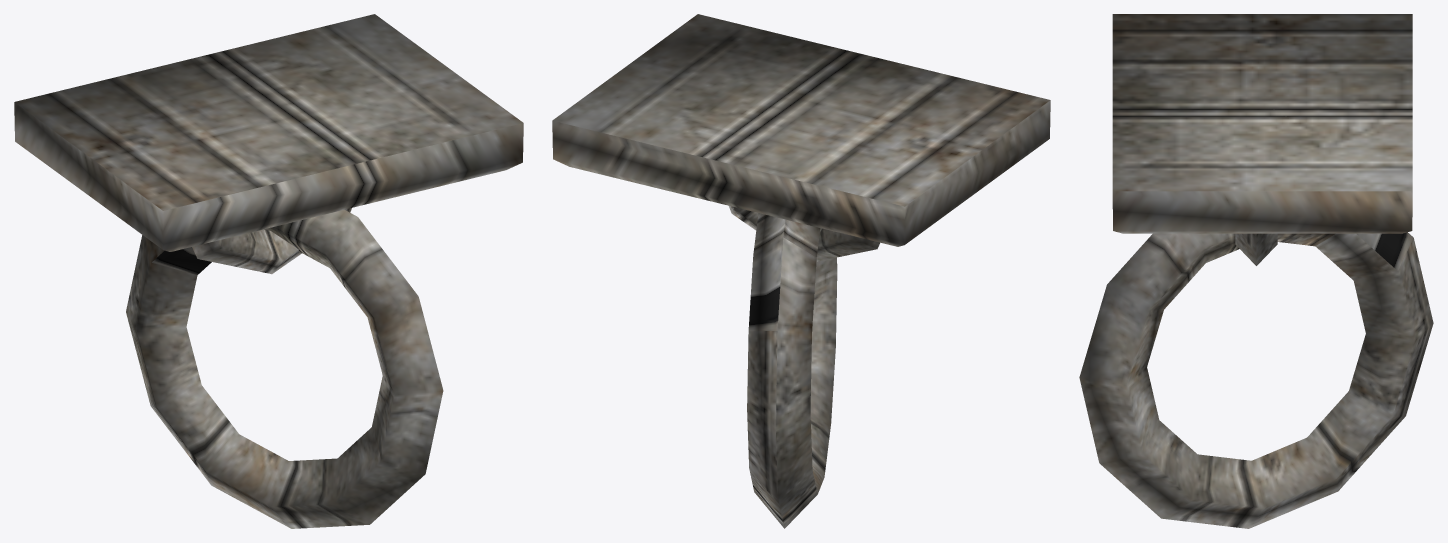
File: Chain Holder.obj
3 views of the same model, side by side, from view 1: azimuth 30°, elevation 25°; view 2: azimuth 150°, elevation 25°; view 3: azimuth 270°, elevation 25° (orthographic). The views are drawn at different scales.
Visible parts, largest first — view 1: SM_GDC2012_Throne_Interior_Chain_04_Holder; view 2: SM_GDC2012_Throne_Interior_Chain_04_Holder; view 3: SM_GDC2012_Throne_Interior_Chain_04_Holder.
Part boxes in pixels (bbox=[...]): SM_GDC2012_Throne_Interior_Chain_04_Holder: bbox=[14, 14, 523, 528]; SM_GDC2012_Throne_Interior_Chain_04_Holder: bbox=[552, 14, 1050, 528]; SM_GDC2012_Throne_Interior_Chain_04_Holder: bbox=[1079, 14, 1433, 528].
Bounding box in the file's own units: 62.78 × 69.06 × 52.96.
1 material, 1 textured.
